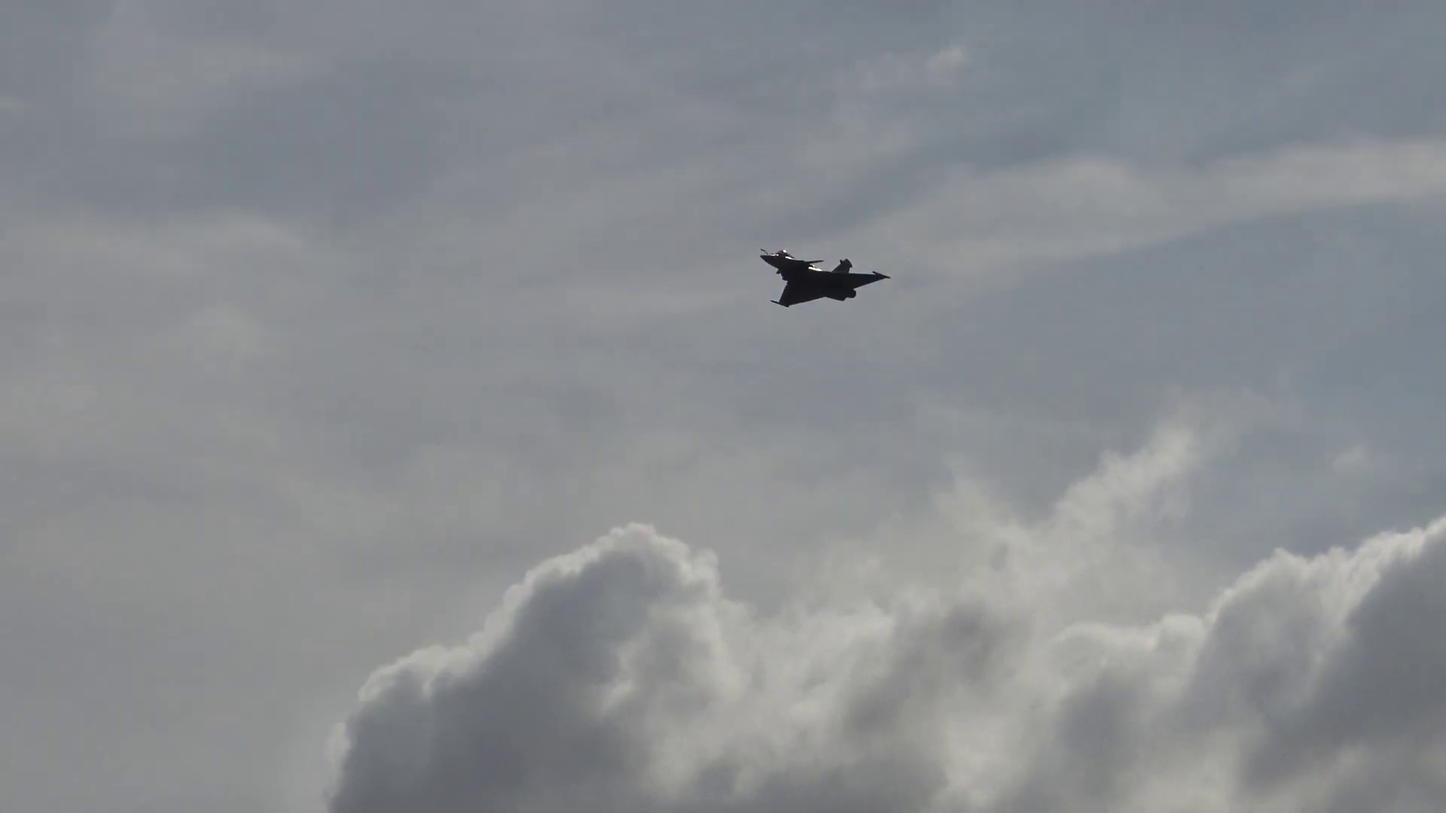Rafale: (761, 248, 890, 307)
